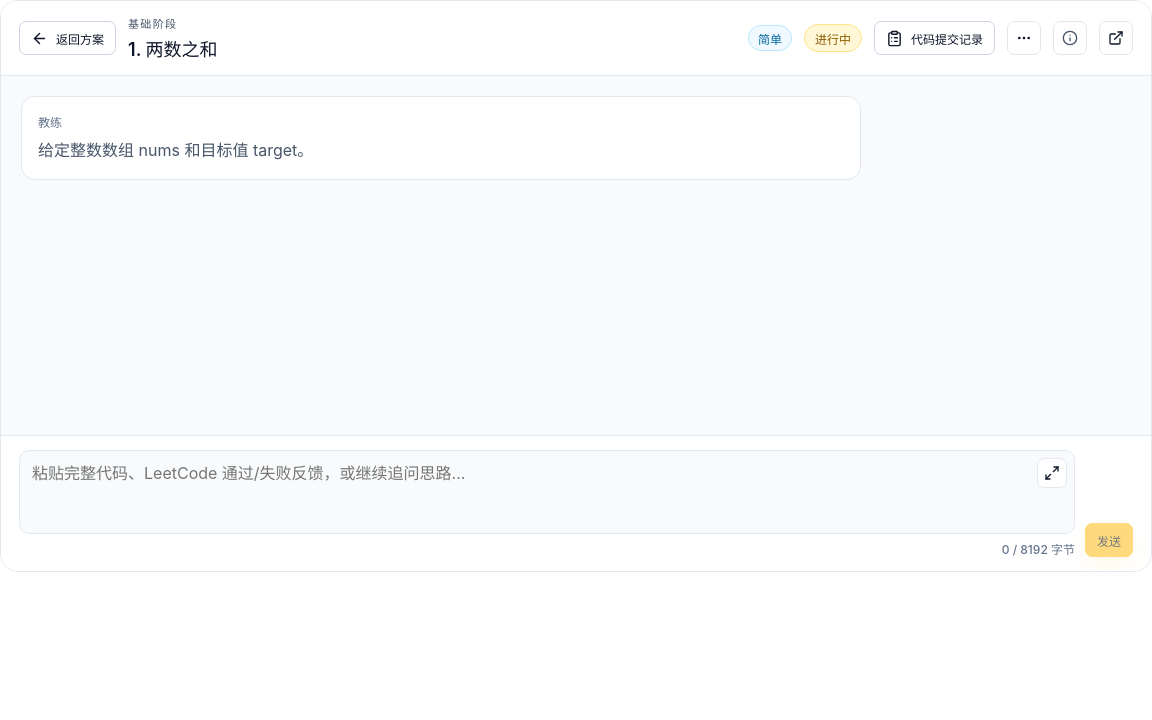
Test case: PracticeChatWorkbench run subscription contracts › shows the provider error reason reported by the subscribed run
This screenshot has width=1152, height=720.
Type "请给我一点提示。" into the text box named "输入你的思路、问题、代码或 LeetCode 反馈" at (547, 492), box [19,450,1075,534]
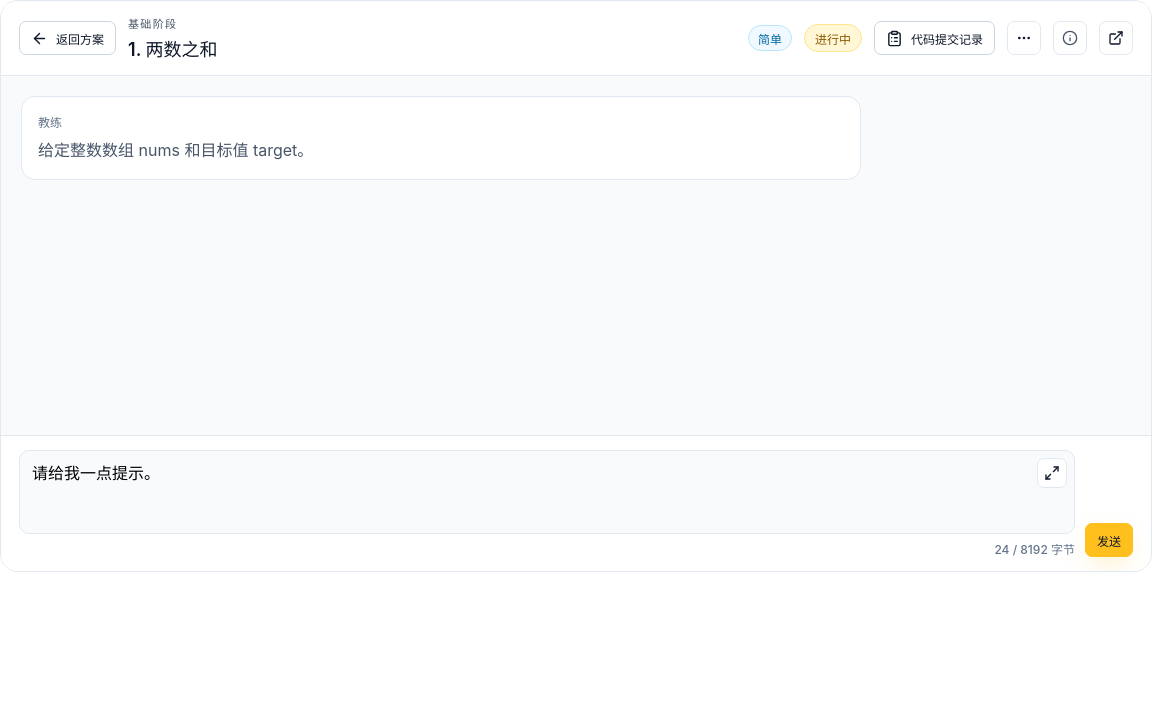
Click the button "发送" at (1109, 540), box [1085,523,1133,557]
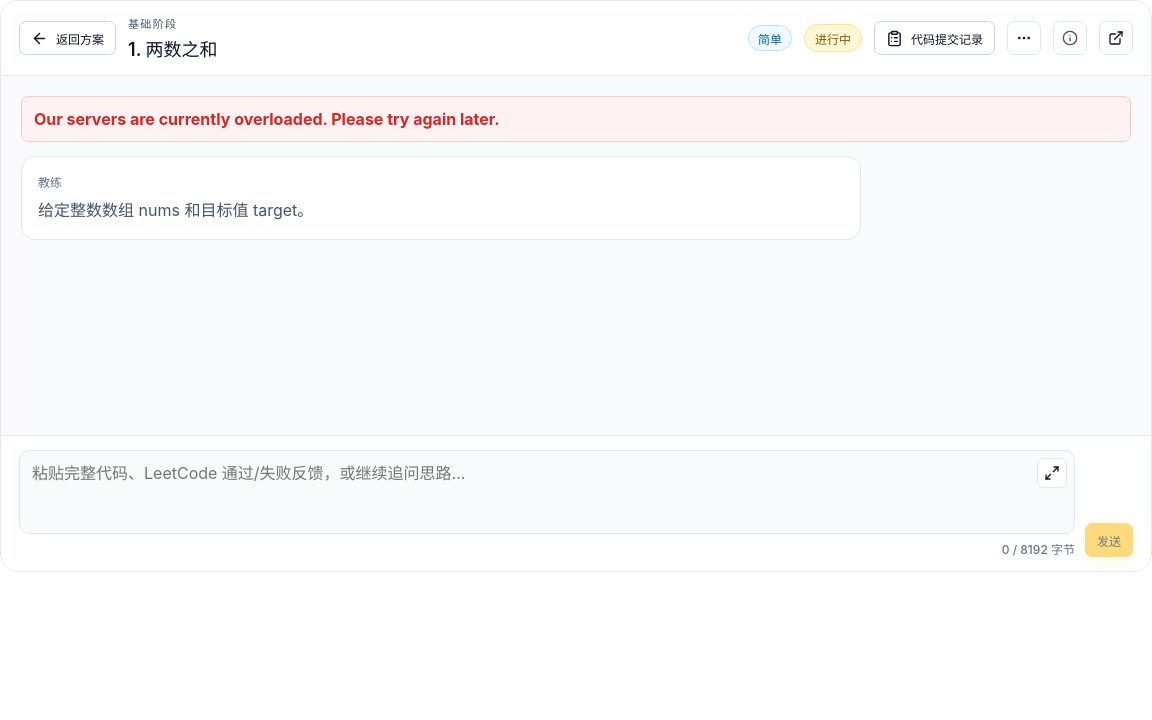
Check: the message reads "Our servers are currently overloaded. Please try again later.", box [34,109,500,129]
